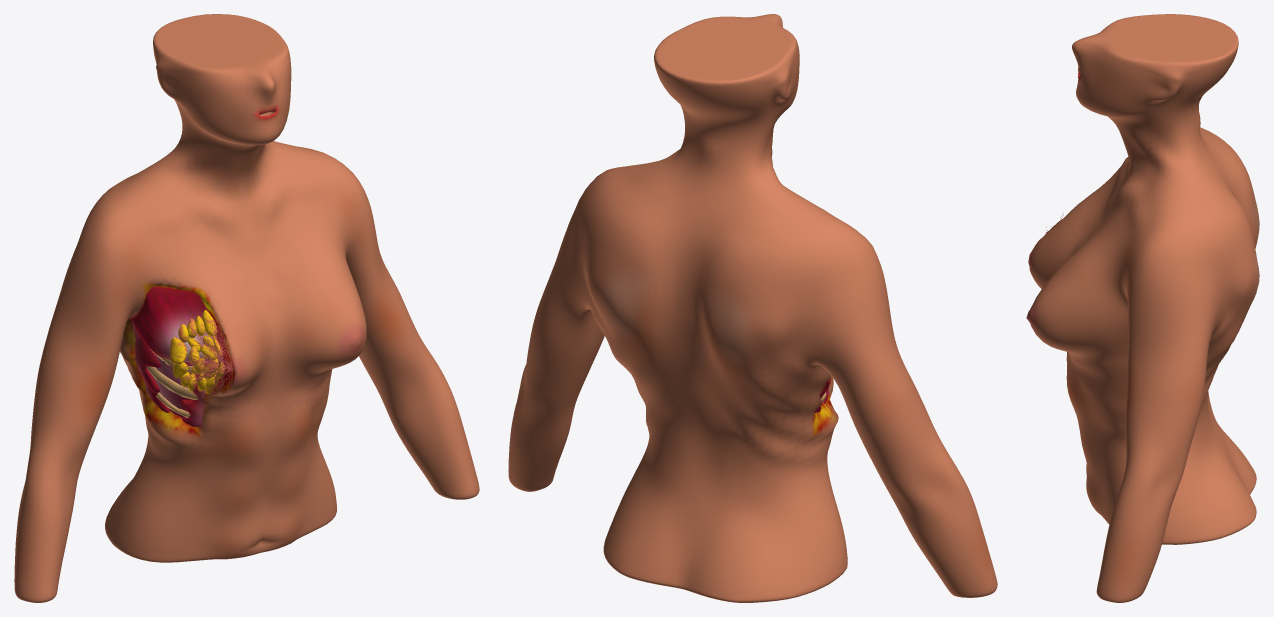
Rendered from seio.glb.
3 views of the same model, side by side, from view 1: azimuth 30°, elevation 25°; view 2: azimuth 150°, elevation 25°; view 3: azimuth 270°, elevation 25° (orthographic). The views are drawn at different scales.
Visible parts, largest first — view 1: Body, Muscles, Glands, Ducts; view 2: Body; view 3: Body.
Boxes of the visible parts, x1=… form: Body: x1=14, y1=14, x2=479, y2=602; Muscles: x1=131, y1=286, x2=223, y2=427; Glands: x1=170, y1=310, x2=225, y2=393; Ducts: x1=167, y1=310, x2=233, y2=395; Body: x1=508, y1=14, x2=997, y2=602; Body: x1=1026, y1=14, x2=1259, y2=602.
Bounding box in the file's own units: 0.2469 × 0.25 × 0.1142.
4 materials, 3 textured.
